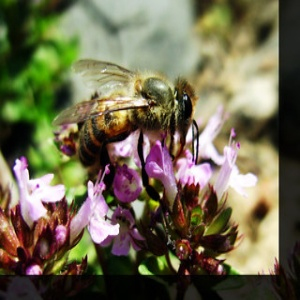bee: (51, 60, 204, 170)
